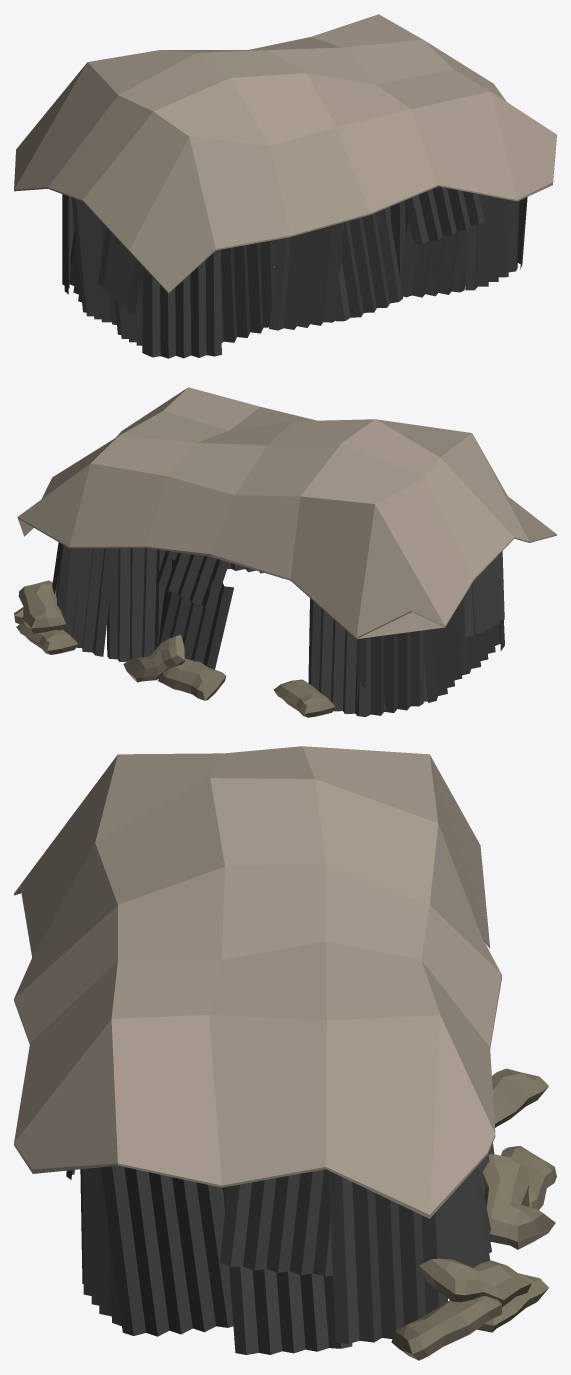
Rendered from Shelter_2.fbx.
3 renders of one model, top to bottom at view 1: azimuth 30°, elevation 25°; view 2: azimuth 150°, elevation 25°; view 3: azimuth 270°, elevation 25°, orthographic. The views are drawn at different scales.
Visible parts, largest first — view 1: Shelter_2; view 2: Shelter_2; view 3: Shelter_2.
Part boxes in pixels (<box>): Shelter_2: <box>14,14,556,358</box>; Shelter_2: <box>14,387,556,717</box>; Shelter_2: <box>14,746,556,1360</box>.
Size of the model in its own units: 12.07 by 6.19 by 8.18.
